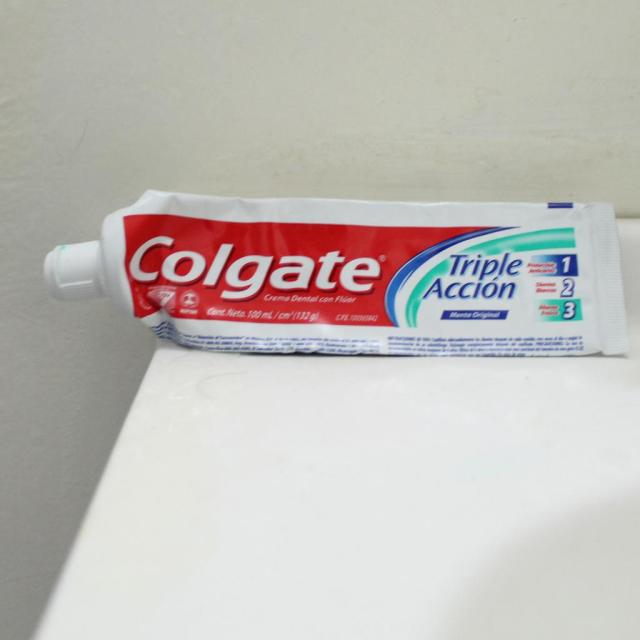Toothpaste: (44, 182, 636, 362)
